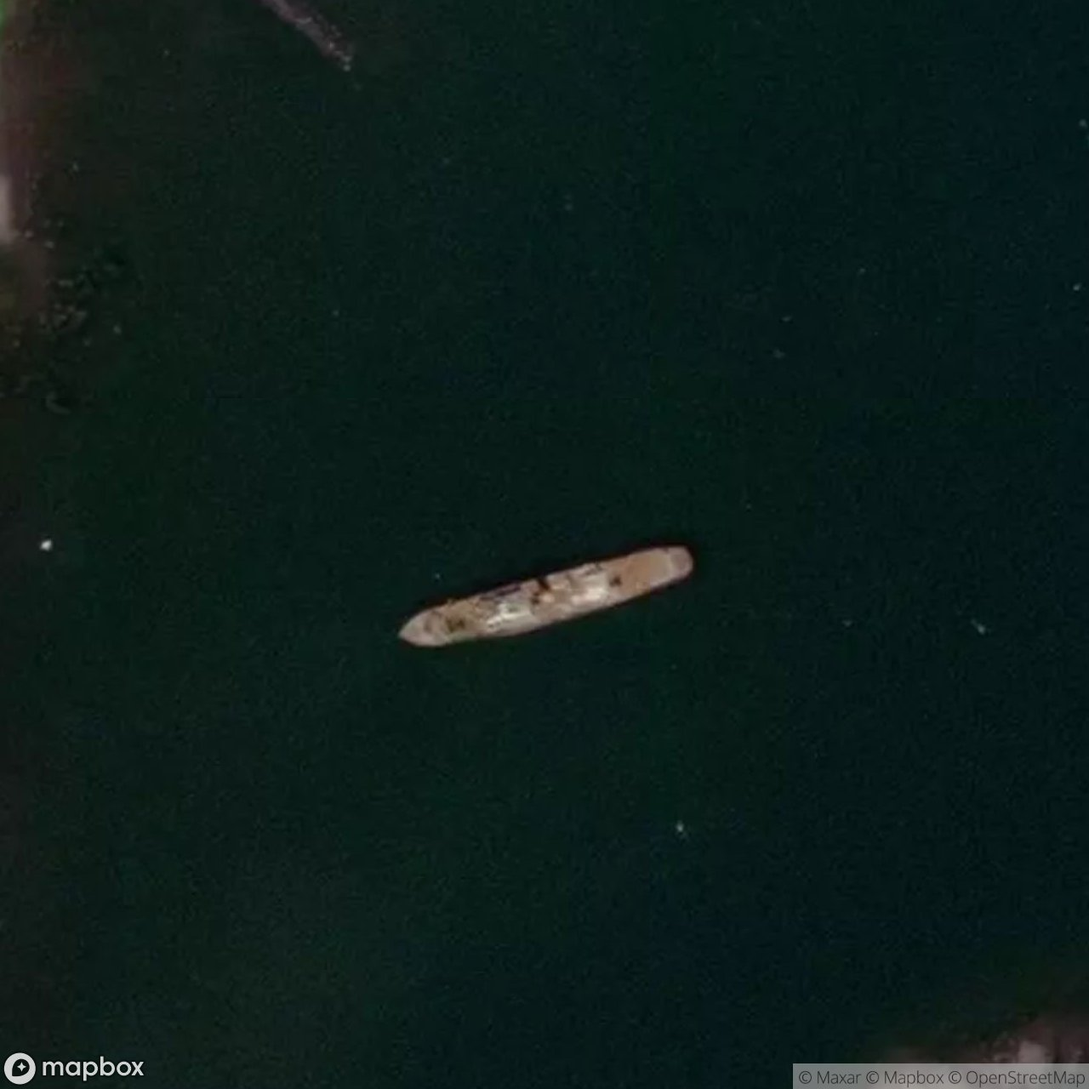Wreck: (359, 539, 720, 640)
